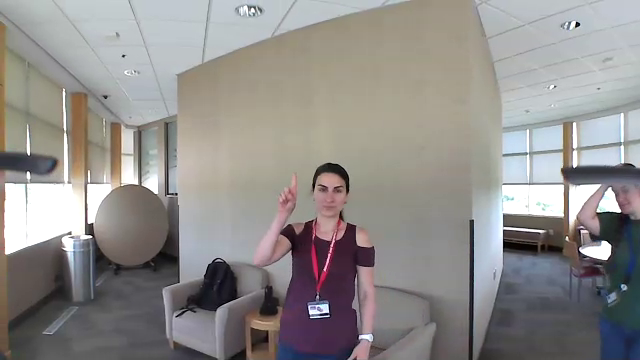up: (274, 168, 301, 219)
